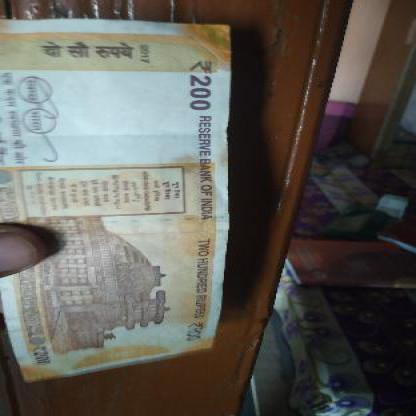New200Back: (0, 20, 223, 372)
